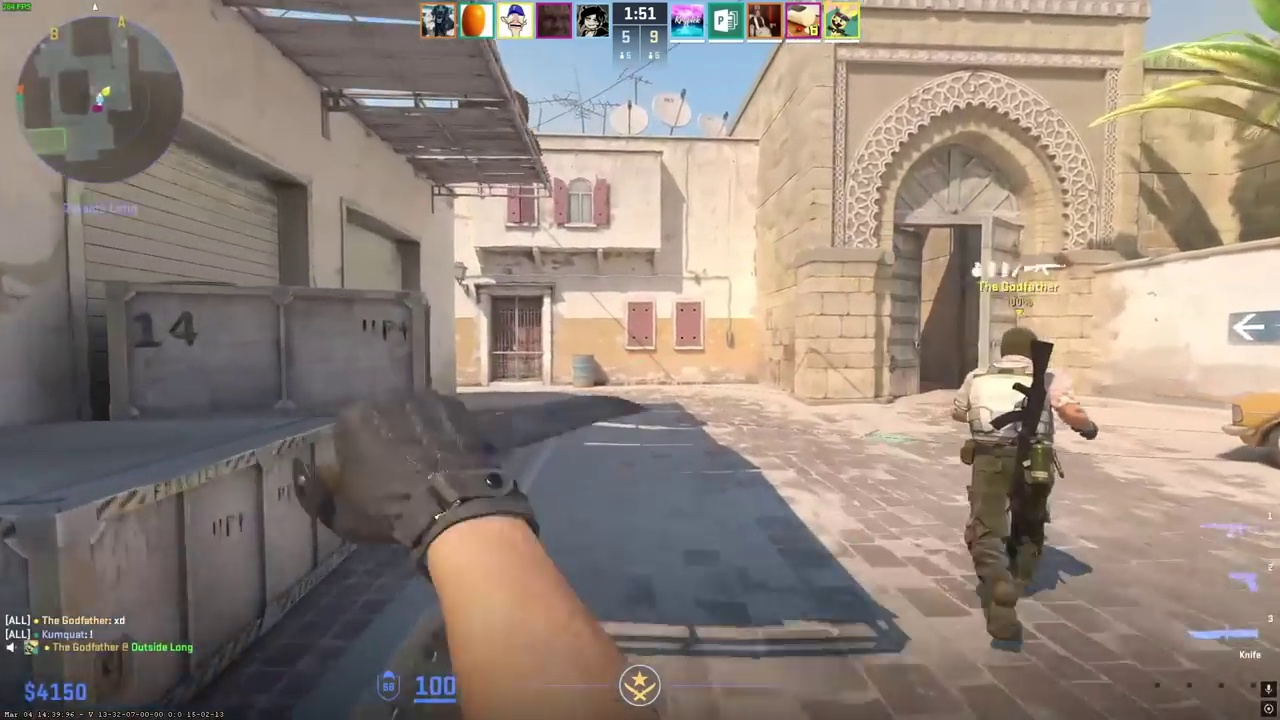Terrorist: (949, 324, 1079, 642)
